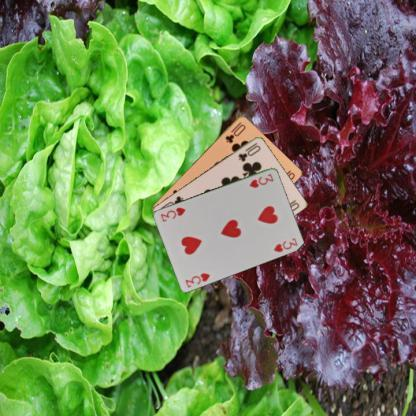10c: (222, 119, 247, 144), (236, 140, 262, 162)
3h: (246, 171, 276, 189), (182, 270, 212, 288)
